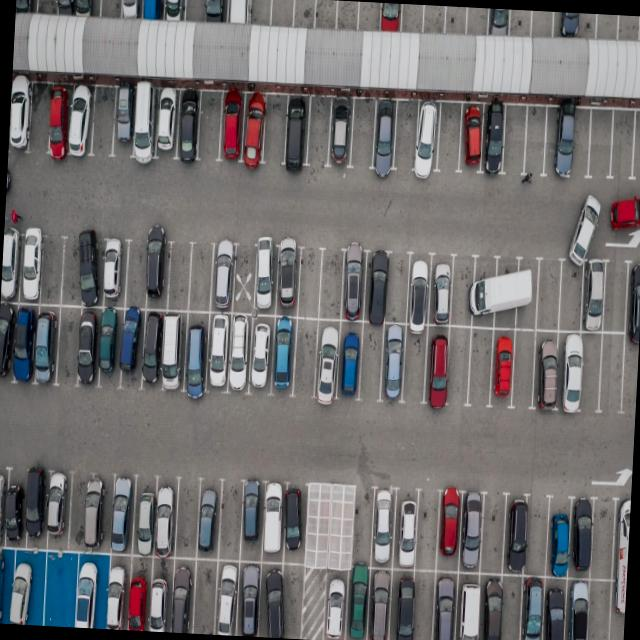car: (1, 547, 44, 626), (70, 550, 108, 628), (556, 330, 590, 412), (182, 312, 214, 393), (202, 313, 234, 393), (548, 106, 582, 181), (532, 332, 564, 411), (334, 319, 366, 398), (247, 315, 278, 396), (213, 560, 246, 636), (29, 304, 60, 384), (366, 486, 396, 568), (157, 310, 187, 392), (268, 314, 298, 394), (433, 490, 463, 570), (222, 314, 252, 394), (108, 474, 138, 554), (313, 316, 342, 398), (166, 556, 197, 632), (392, 488, 421, 569), (8, 302, 37, 383), (150, 478, 180, 556), (490, 255, 522, 328), (119, 308, 148, 388), (458, 492, 487, 572), (96, 304, 124, 386), (578, 258, 608, 334), (104, 554, 134, 630), (403, 255, 435, 326), (73, 235, 104, 308), (488, 328, 518, 403), (412, 101, 442, 176), (196, 479, 224, 559), (100, 238, 132, 308), (240, 482, 268, 562), (125, 554, 154, 631), (151, 87, 181, 161), (546, 503, 576, 577), (144, 558, 174, 632), (454, 571, 486, 640), (257, 560, 286, 636), (272, 243, 302, 316), (260, 482, 288, 560), (378, 324, 406, 402), (254, 240, 283, 315), (131, 86, 160, 161), (44, 472, 73, 547), (208, 242, 238, 314), (457, 102, 487, 174), (361, 252, 391, 324), (130, 476, 157, 556), (472, 254, 502, 326), (67, 84, 96, 158), (140, 310, 167, 389), (501, 496, 528, 575), (424, 328, 452, 404), (82, 476, 110, 552), (217, 91, 246, 164), (279, 488, 306, 566), (78, 307, 105, 385), (431, 570, 461, 640), (326, 98, 356, 168), (323, 570, 353, 640), (371, 100, 400, 172), (282, 95, 311, 167), (240, 94, 269, 166), (363, 566, 391, 640), (22, 470, 49, 546), (237, 561, 264, 637), (15, 230, 43, 303), (512, 257, 540, 330), (480, 106, 508, 178), (176, 91, 204, 163), (388, 568, 416, 640), (340, 252, 369, 320), (426, 258, 455, 326), (4, 469, 29, 546), (342, 569, 369, 640), (144, 240, 172, 308), (47, 83, 72, 158), (112, 87, 138, 159), (516, 576, 545, 640), (541, 574, 569, 640), (9, 79, 34, 152), (571, 502, 595, 578), (561, 575, 588, 640), (477, 576, 504, 640), (1, 228, 23, 302), (612, 498, 631, 580), (608, 576, 627, 640), (0, 301, 14, 379), (556, 12, 596, 39), (626, 260, 640, 335), (488, 8, 514, 36), (378, 2, 402, 32), (0, 547, 9, 624), (225, 0, 251, 25), (0, 473, 8, 550), (203, 0, 228, 23), (141, 0, 167, 22), (161, 0, 186, 20), (119, 0, 142, 20), (73, 0, 98, 17), (84, 0, 102, 18), (16, 0, 38, 14), (55, 0, 74, 15)
free: (41, 548, 80, 626), (288, 318, 319, 398), (443, 326, 474, 406), (190, 557, 222, 634), (218, 482, 248, 563), (466, 326, 496, 406), (275, 562, 306, 638), (598, 334, 628, 412), (412, 491, 440, 574), (172, 480, 201, 560), (347, 489, 375, 571), (479, 496, 508, 575), (401, 327, 431, 403), (610, 110, 640, 186), (508, 330, 537, 408), (406, 568, 437, 640), (349, 96, 379, 170), (390, 100, 420, 174), (56, 306, 84, 385), (357, 322, 386, 398), (380, 253, 410, 326), (524, 500, 552, 578), (433, 102, 463, 174), (196, 90, 226, 162), (262, 94, 292, 166), (90, 86, 120, 158), (499, 102, 528, 176), (603, 259, 632, 333), (522, 104, 550, 180), (557, 256, 585, 332), (293, 250, 323, 320), (316, 250, 345, 322), (578, 332, 604, 412), (534, 258, 562, 332), (228, 243, 256, 317), (590, 501, 616, 580), (38, 235, 66, 308), (166, 242, 195, 312), (28, 83, 55, 158), (587, 110, 615, 182), (306, 96, 334, 166), (448, 257, 476, 327), (186, 244, 214, 312), (125, 241, 152, 309), (498, 575, 526, 640), (68, 476, 92, 551), (305, 490, 328, 568), (62, 237, 88, 305), (587, 576, 614, 640), (620, 335, 640, 412), (334, 1, 359, 34), (357, 1, 383, 32), (422, 5, 448, 34), (314, 0, 339, 30), (291, 0, 316, 29), (400, 4, 424, 34), (465, 8, 490, 36), (446, 6, 470, 34), (530, 11, 554, 38), (269, 0, 293, 27), (631, 110, 640, 180), (508, 9, 531, 36), (596, 15, 620, 40), (616, 15, 640, 40), (249, 0, 272, 26), (184, 0, 207, 23), (100, 0, 124, 19), (37, 0, 60, 16)
